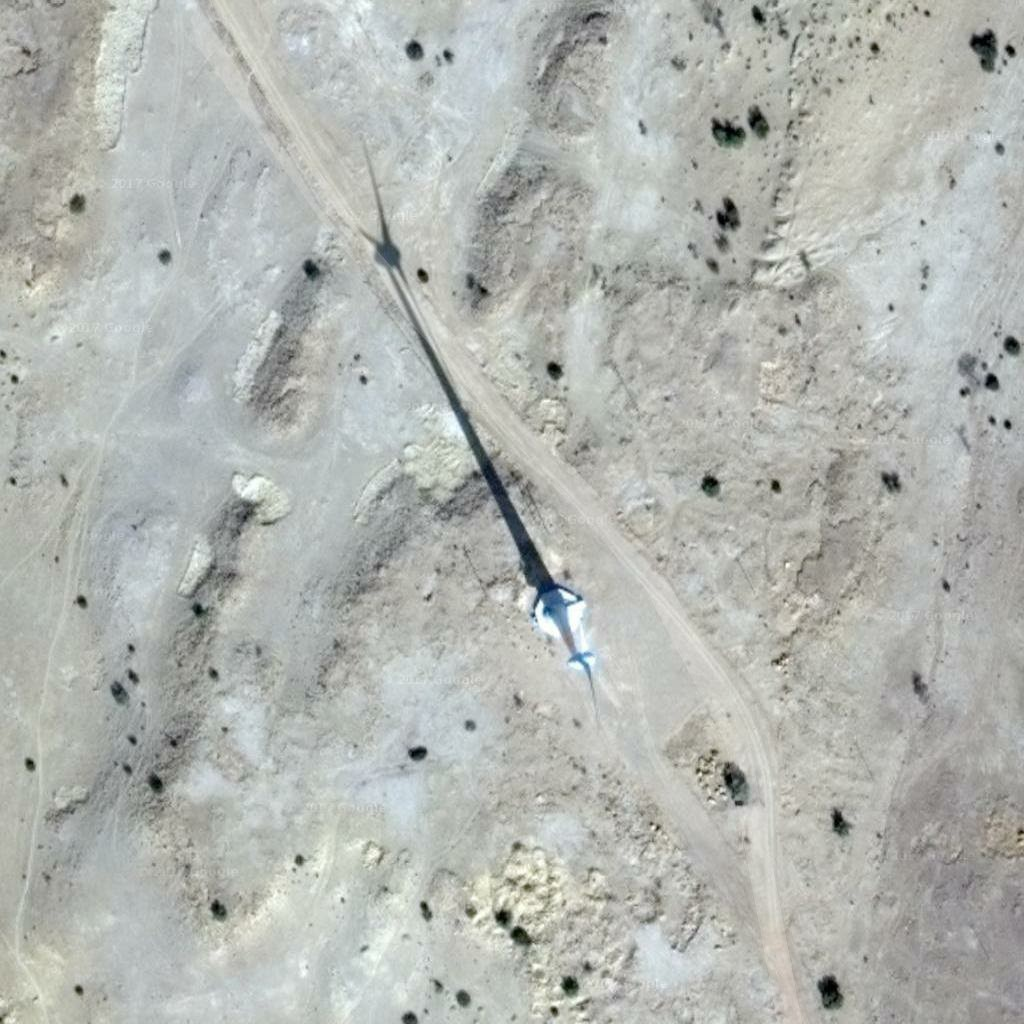Windmill: (338, 145, 556, 584)
